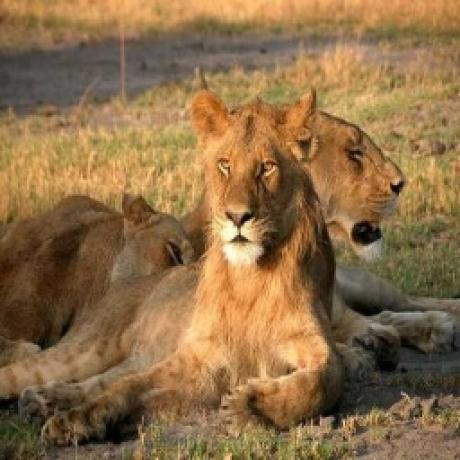Lion: (22, 87, 334, 451), (312, 111, 460, 366)
